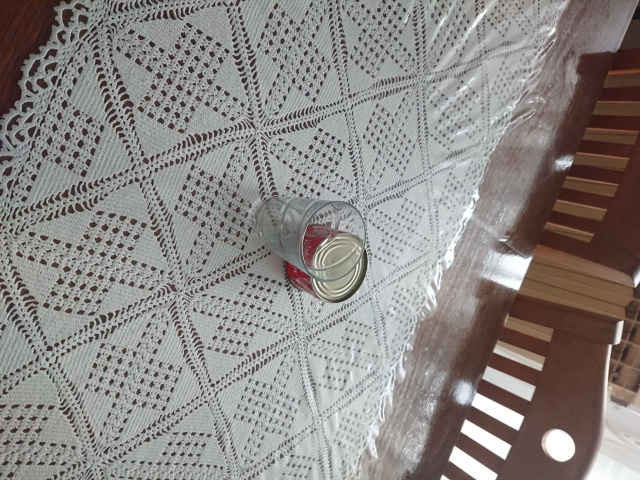Podravka Luncheon Meat 150g: (282, 220, 369, 306)
